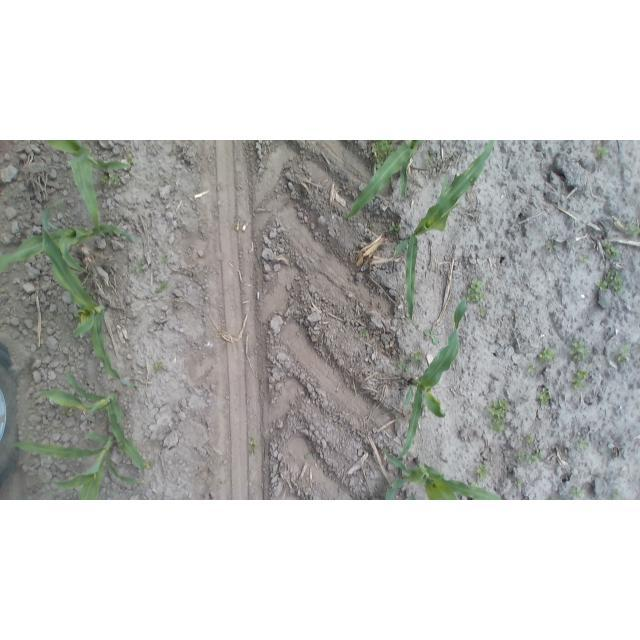Maize: (389, 141, 498, 328), (36, 192, 141, 386), (385, 291, 472, 465), (30, 365, 148, 476), (8, 429, 147, 499), (40, 140, 132, 240), (0, 211, 138, 275), (342, 140, 429, 222), (382, 455, 507, 500)
Weeds: (486, 396, 510, 434), (516, 433, 545, 464), (596, 267, 624, 295), (367, 141, 398, 166), (568, 338, 590, 362), (466, 279, 487, 304), (99, 171, 126, 190), (570, 368, 591, 391), (600, 240, 620, 261), (407, 349, 426, 370), (423, 326, 442, 346), (538, 346, 559, 364), (535, 387, 553, 408), (614, 344, 632, 364), (475, 463, 492, 483), (593, 144, 611, 160), (132, 257, 148, 275), (545, 237, 560, 254), (570, 485, 586, 500), (395, 359, 412, 373), (624, 222, 638, 238), (387, 220, 401, 235), (248, 436, 259, 455), (576, 437, 589, 452), (156, 280, 169, 295), (578, 253, 592, 266), (526, 362, 538, 376), (611, 488, 624, 500), (153, 361, 166, 373), (62, 407, 76, 418), (476, 308, 489, 319), (160, 254, 171, 265), (425, 154, 436, 165), (513, 477, 525, 487), (125, 153, 135, 165), (144, 459, 153, 470), (359, 327, 368, 338), (302, 452, 310, 462)
